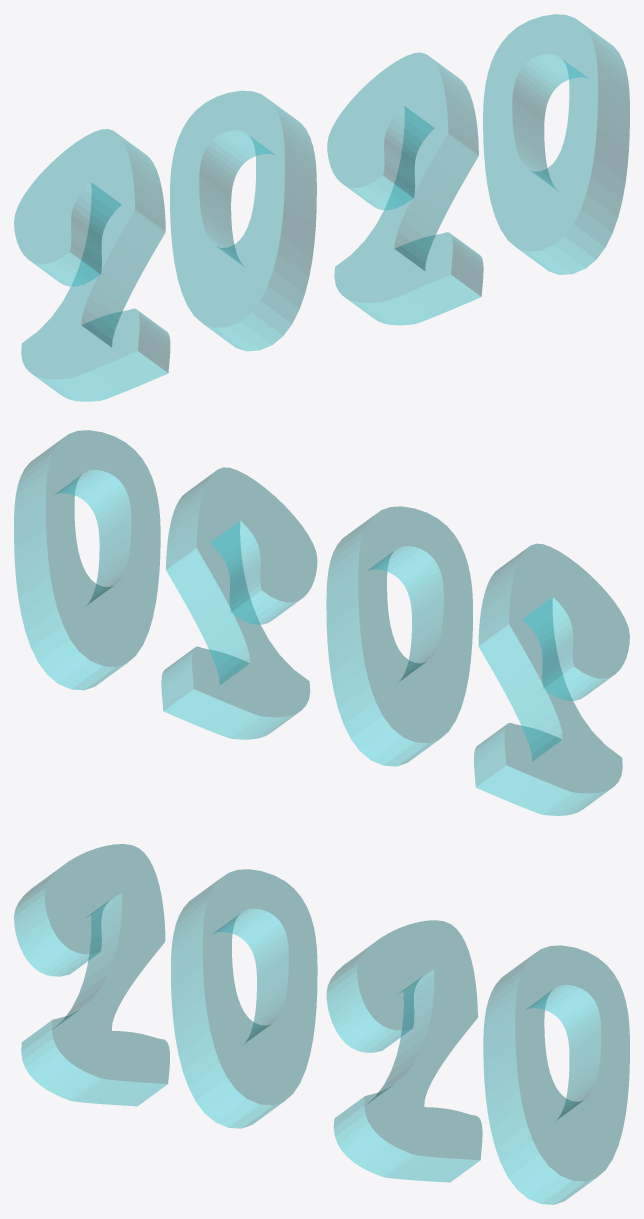
The picture shows the model from 3 angles, top to bottom: view 1: azimuth 30°, elevation 25°; view 2: azimuth 150°, elevation 25°; view 3: azimuth 330°, elevation 25°; orthographic projection.
Visible parts, largest first — view 1: Circle; view 2: Circle; view 3: Circle.
Boxes of the visible parts, x1,y1,x2,y2 form: Circle: [14, 14, 629, 401]; Circle: [14, 430, 629, 815]; Circle: [14, 844, 629, 1204].
Size of the model in its own units: 6.69 by 2.68 by 0.6324.
